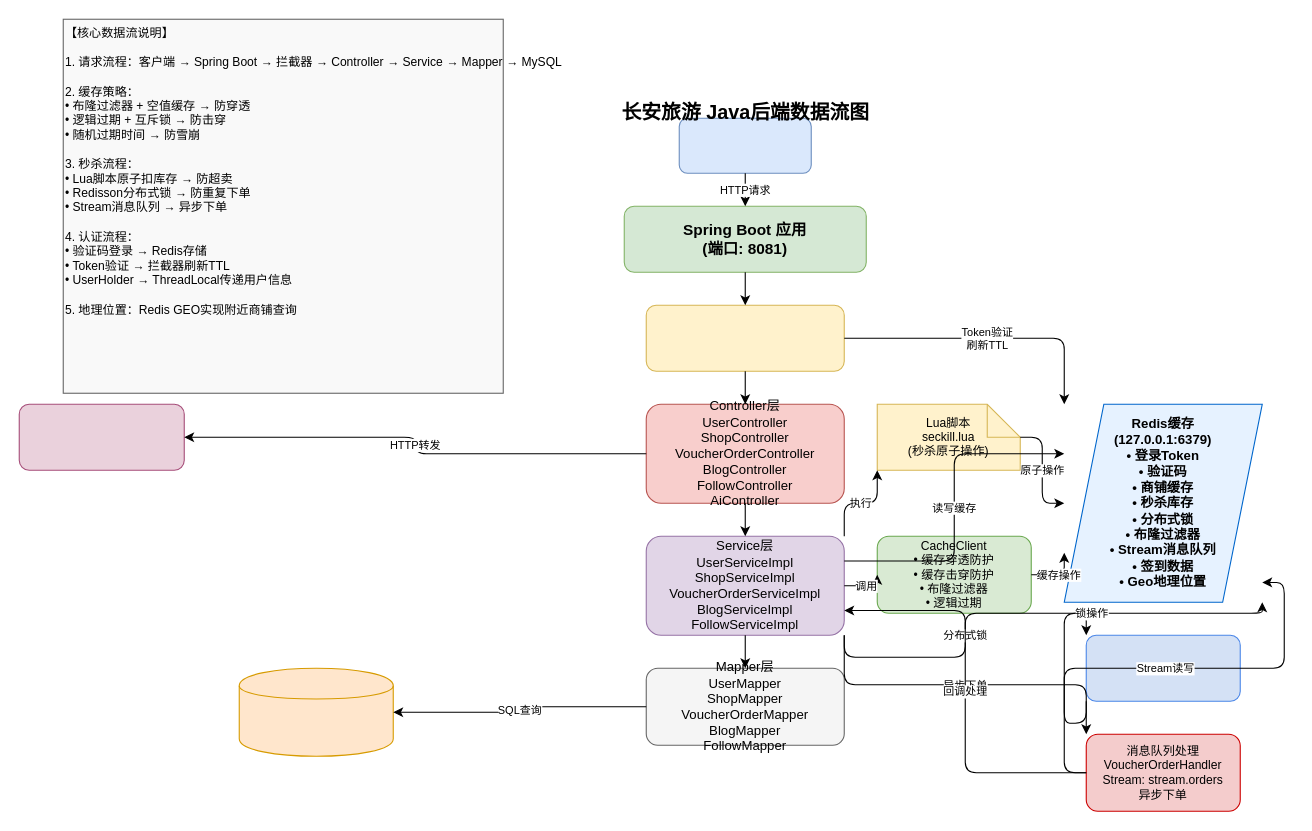
Image size: 1312x831. Some labels were removed from this diagram. The shapes that lost their labels are listed below. From the top down, each one's box as (x1, y1, x2, y2) in pixels, then its label:
(678, 117, 811, 173): 客户端/前端
(645, 304, 844, 371): 拦截器层 RefreshTokenInterceptor LoginInterceptor
(18, 403, 184, 470): AI服务(Python) (127.0.0.1:8000)
(1085, 634, 1240, 701): RedissonClient • 分布式锁(RLock) • 布隆过滤器
(238, 667, 393, 756): MySQL数据库 (172.30.237.211:3306) hmdp
